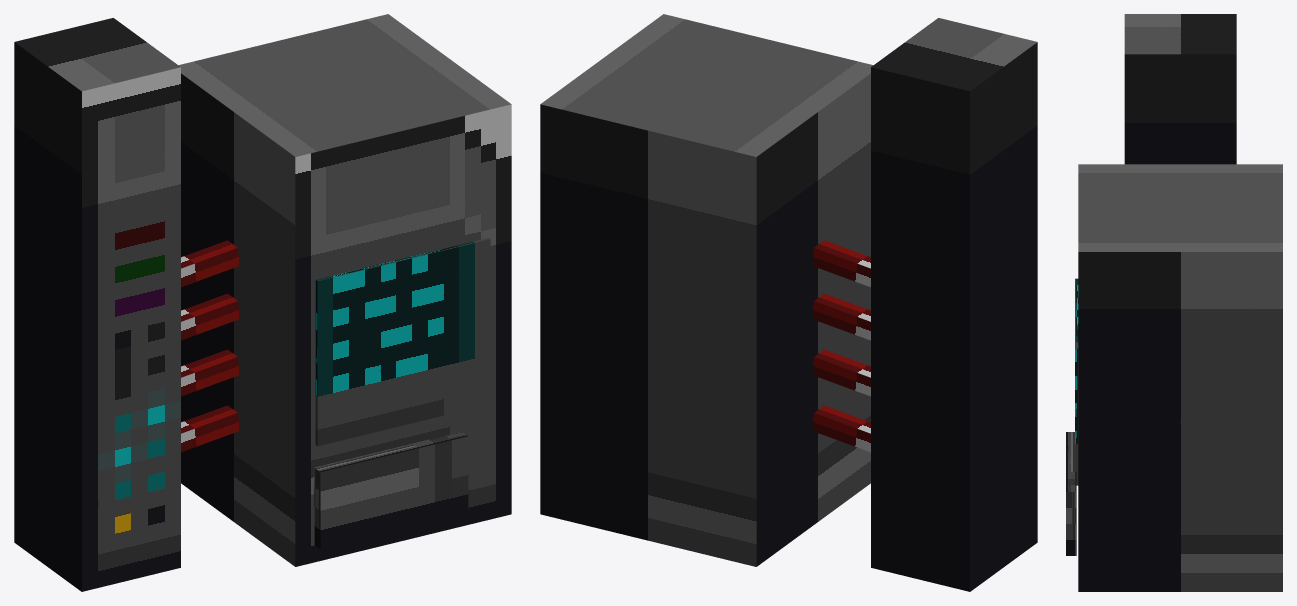
File: announcement_system.glb
3 renders of one model, left to right at view 1: azimuth 30°, elevation 25°; view 2: azimuth 150°, elevation 25°; view 3: azimuth 270°, elevation 25°, orthographic. The views are drawn at different scales.
Parts seen in each view (by area): view 1: Announcement_Body, Terminal_AAS_On, Service_Hatch; view 2: Announcement_Body; view 3: Announcement_Body, Service_Hatch, Terminal_AAS_On.
Boxes of the visible parts, x1=… form: Announcement_Body: x1=14, y1=14, x2=511, y2=591; Terminal_AAS_On: x1=315, y1=237, x2=490, y2=446; Service_Hatch: x1=315, y1=432, x2=468, y2=549; Announcement_Body: x1=540, y1=14, x2=1037, y2=591; Announcement_Body: x1=1078, y1=14, x2=1282, y2=591; Service_Hatch: x1=1066, y1=432, x2=1074, y2=555; Terminal_AAS_On: x1=1075, y1=278, x2=1078, y2=485.
Size of what is drawn, in the model's own units: 1.58 by 1.88 by 0.89.
Materials: 1 (1 with a texture image).
